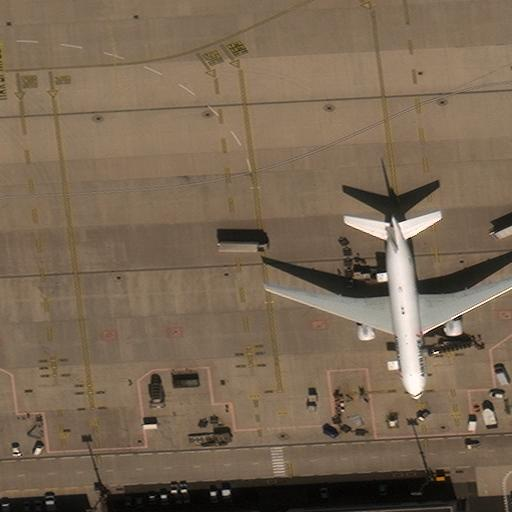Large Civil Transport: (264, 216, 511, 400)
